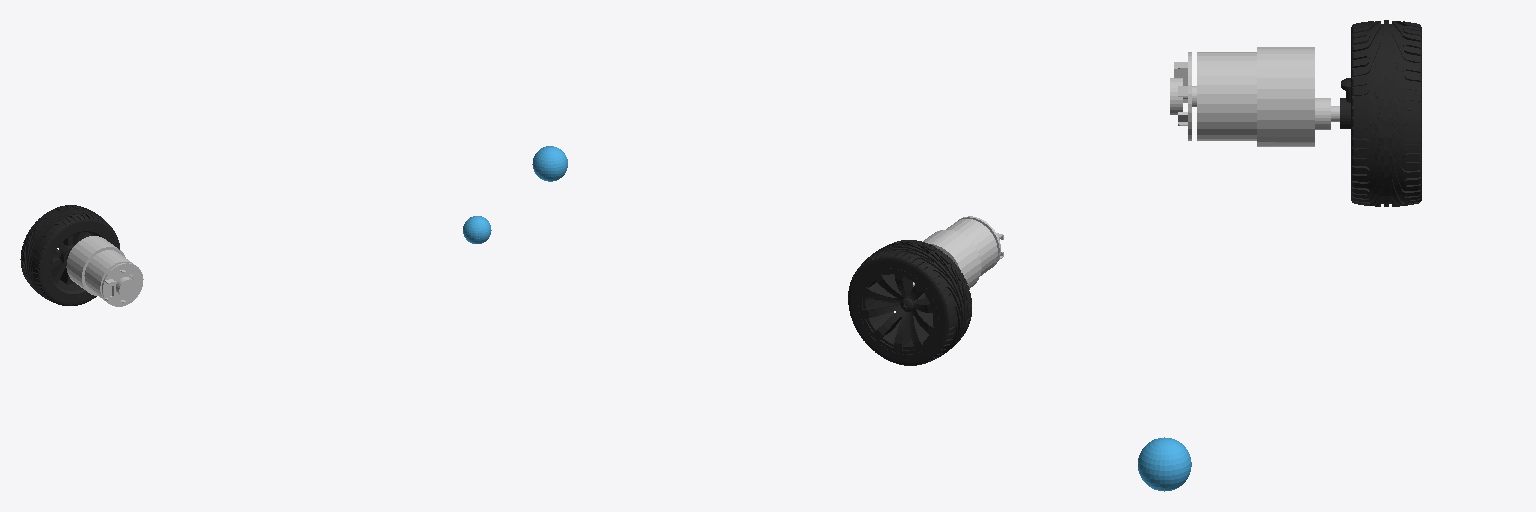
robot.urdf — car:
<?xml version="1.0" ?>
<!-- =================================================================================== -->
<!-- |    This document was autogenerated by xacro from car.xacro                      | -->
<!-- |    EDITING THIS FILE BY HAND IS NOT RECOMMENDED                                 | -->
<!-- =================================================================================== -->
<robot name="car">
  <link name="base_link">
    <visual>
      <geometry>
        <mesh filename="package://awesome_driver/meshes/main_frame.obj"/>
      </geometry>
    </visual>
  </link>
  <joint name="caster_joint" type="fixed">
    <parent link="base_link"/>
    <child link="caster"/>
    <origin rpy="0 0 0" xyz="0.28 0 0"/>
  </joint>
  <link name="caster">
    <visual>
      <geometry>
        <sphere radius="0.01"/>
      </geometry>
    </visual>
    <collision>
      <geometry>
        <sphere radius="0.01"/>
      </geometry>
    </collision>
  </link>
  <link name="left_motor">
    <visual>
      <geometry>
        <mesh filename="package://awesome_driver/meshes/rear_actuator.stl"/>
      </geometry>
      <material name="gray">
        <color rgba="0.8 0.8 0.8 1"/>
      </material>
    </visual>
  </link>
  <joint name="left_motor_mnt" type="fixed">
    <parent link="base_link"/>
    <child link="left_motor"/>
    <origin rpy="0 0 0" xyz="0 0.0556 0.0195"/>
  </joint>
  <link name="left_wheel">
    <visual>
      <geometry>
        <mesh filename="package://awesome_driver/meshes/left_rear_wheel.stl"/>
      </geometry>
      <material name="black">
        <color rgba="0.2 0.2 0.2 1"/>
      </material>
    </visual>
    <collision>
      <geometry>
        <cylinder length="0.0265" radius="0.03448"/>
      </geometry>
      <origin rpy="1.570796326795 0 0" xyz="0 0 0"/>
    </collision>
  </link>
  <joint name="left_motor_wheel" type="continuous">
    <parent link="left_motor"/>
    <child link="left_wheel"/>
    <axis xyz="0 1 0"/>
    <origin rpy="0 0 0" xyz="0 0.0264 -0.007"/>
  </joint>
</robot>

--- Facts derived from the render (not from the file) ---
3 views of the same robot in one strip: view 1: azimuth 30°, elevation 25°; view 2: azimuth 150°, elevation 25°; view 3: azimuth 270°, elevation 25° (orthographic).
Model car with 4 links and 3 joints (1 continuous, 2 fixed), rooted at base_link, posed every joint at zero.
Visible links, largest first — view 1: left_wheel, left_motor, caster; view 2: left_wheel, left_motor, caster; view 3: left_wheel, left_motor, caster.
Link boxes in pixels (box(x1,y1,x2,y2)): left_wheel: box(20, 205, 119, 305); left_motor: box(66, 236, 143, 306); caster: box(463, 216, 491, 243); left_wheel: box(848, 240, 971, 365); left_motor: box(913, 216, 1003, 288); caster: box(532, 146, 567, 181); left_wheel: box(1340, 20, 1421, 206); left_motor: box(1170, 47, 1339, 146); caster: box(1138, 437, 1191, 491).
Size in the robot's own frame: 0.3245 by 0.1053 by 0.0689 metres.
Meshes: 3 distinct files referenced, 2 mesh visuals loaded (2 binary STL); not drawn: 1 (reference not matched to a file when rendering).